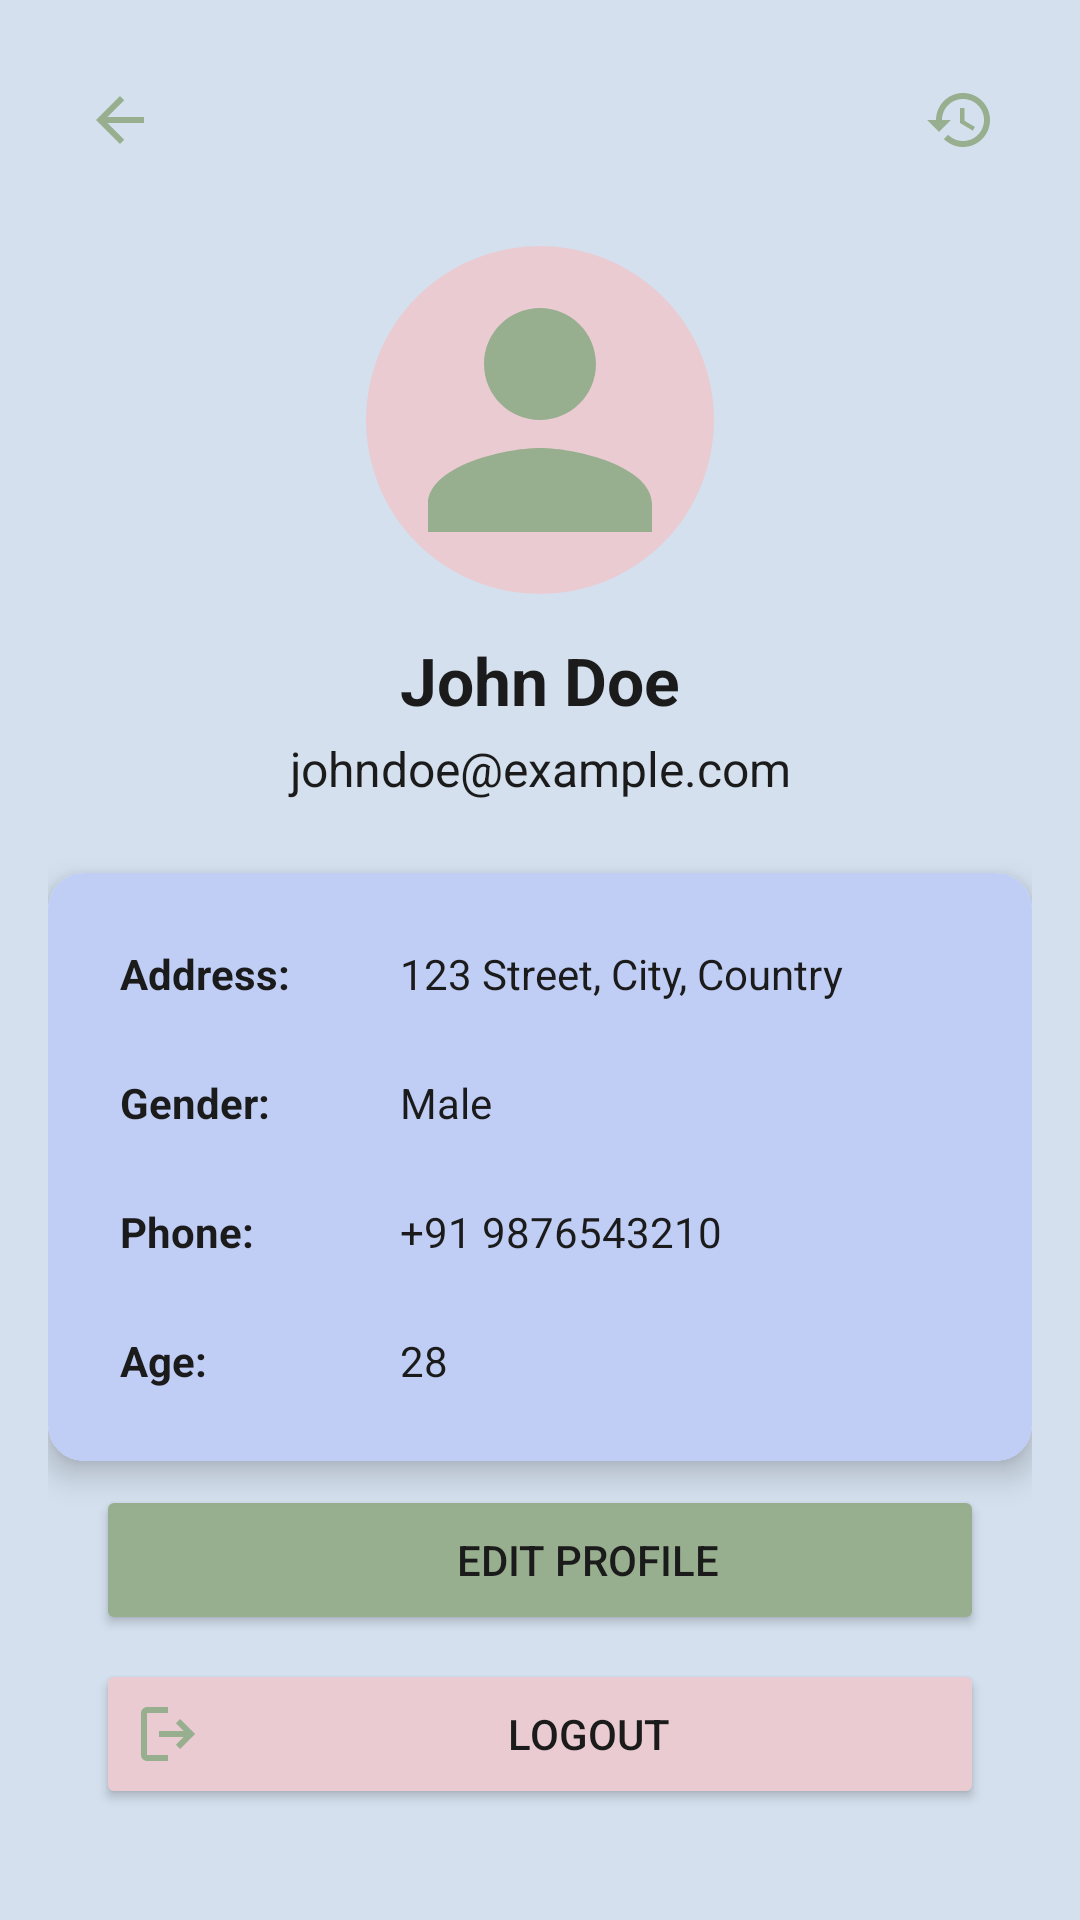

Icon bounding boxes for this 1080px x 1920px phone screenshot, format (x1, y1, x2, y2):
Back: (96, 96, 144, 144)
History: (927, 93, 990, 147)
person: (366, 246, 714, 594)
